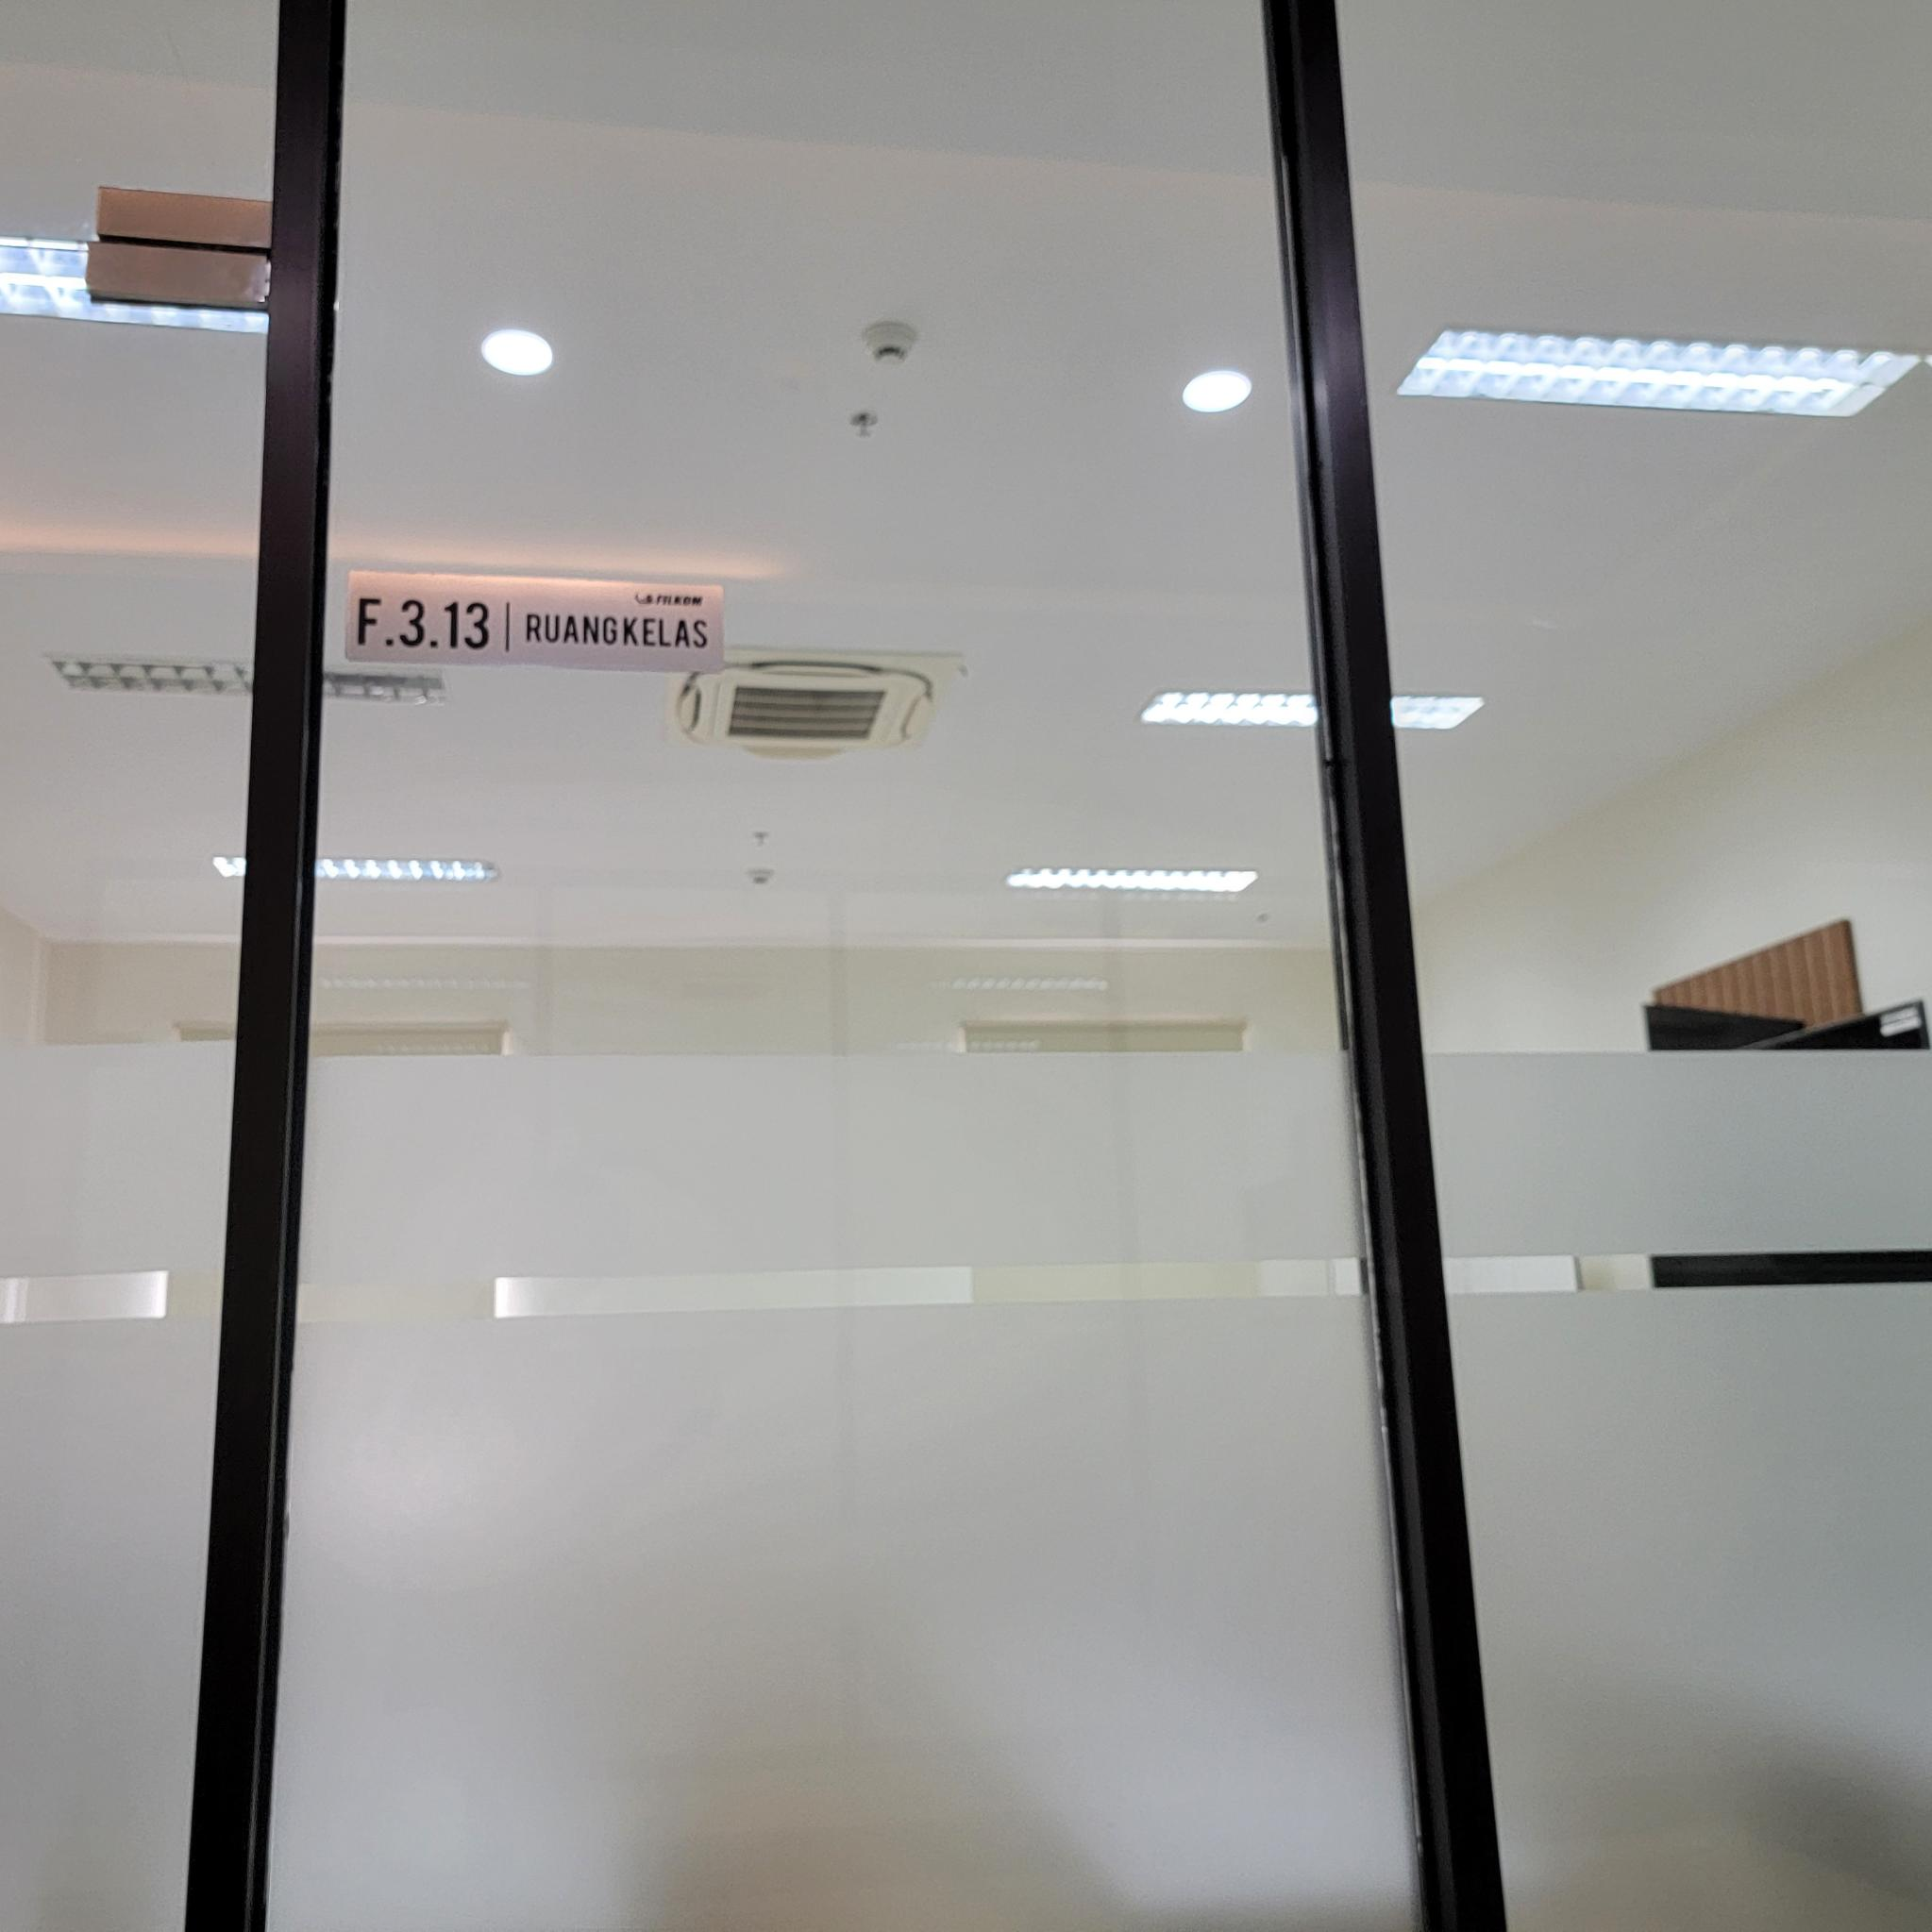plate: (347, 570, 727, 674)
